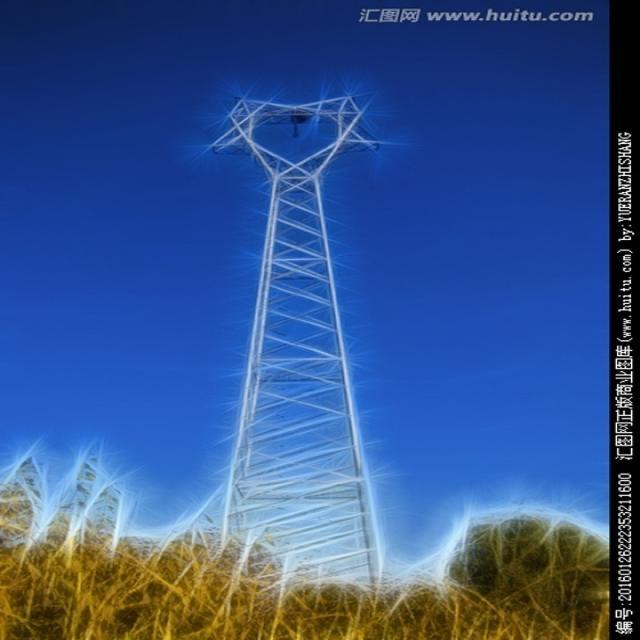non-critical vegetation: (182, 88, 406, 590)
